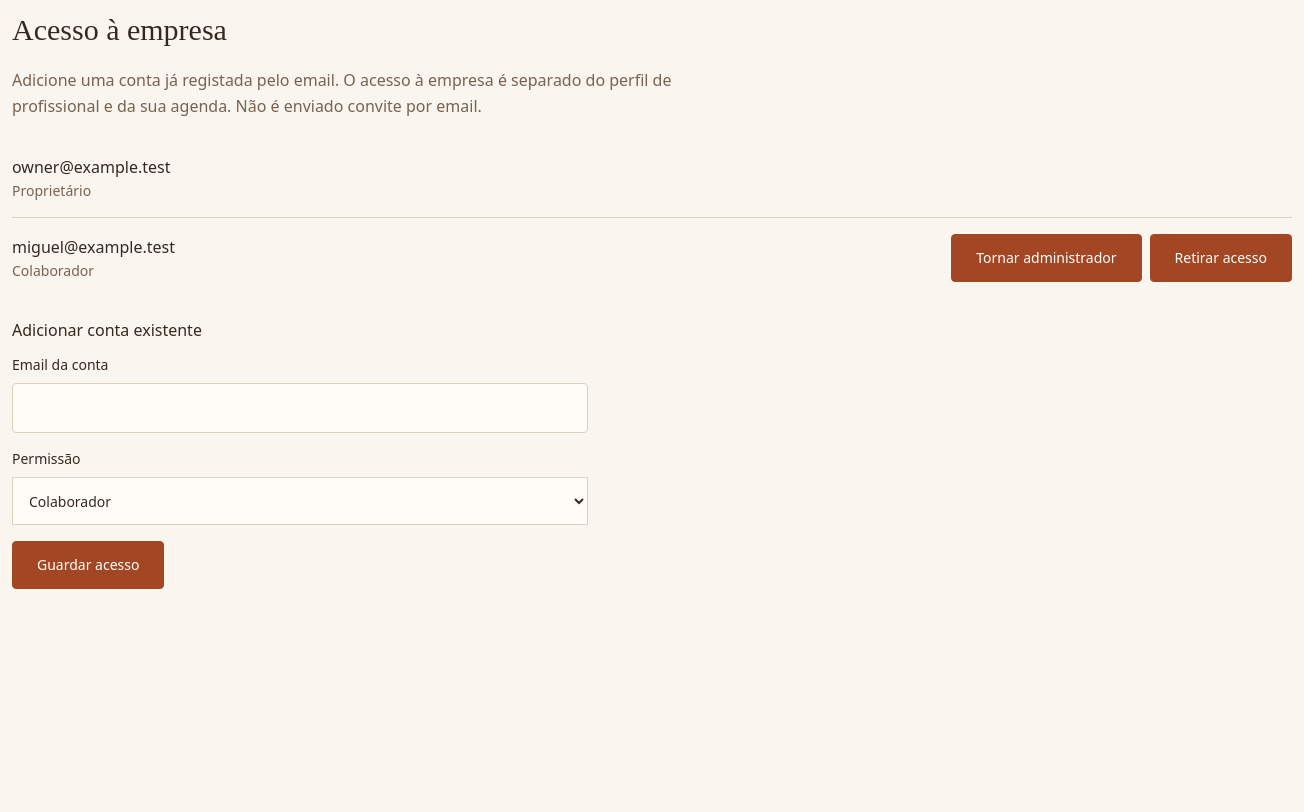
Test: erro não anuncia sucesso e mantém email para nova tentativa
Expected: the text "miguel@example.test" is shown, 12,235 -> 175,261
Type "missing@example.test" into the field labelled "Email da conta" at (300, 408), box 12,383 -> 588,433
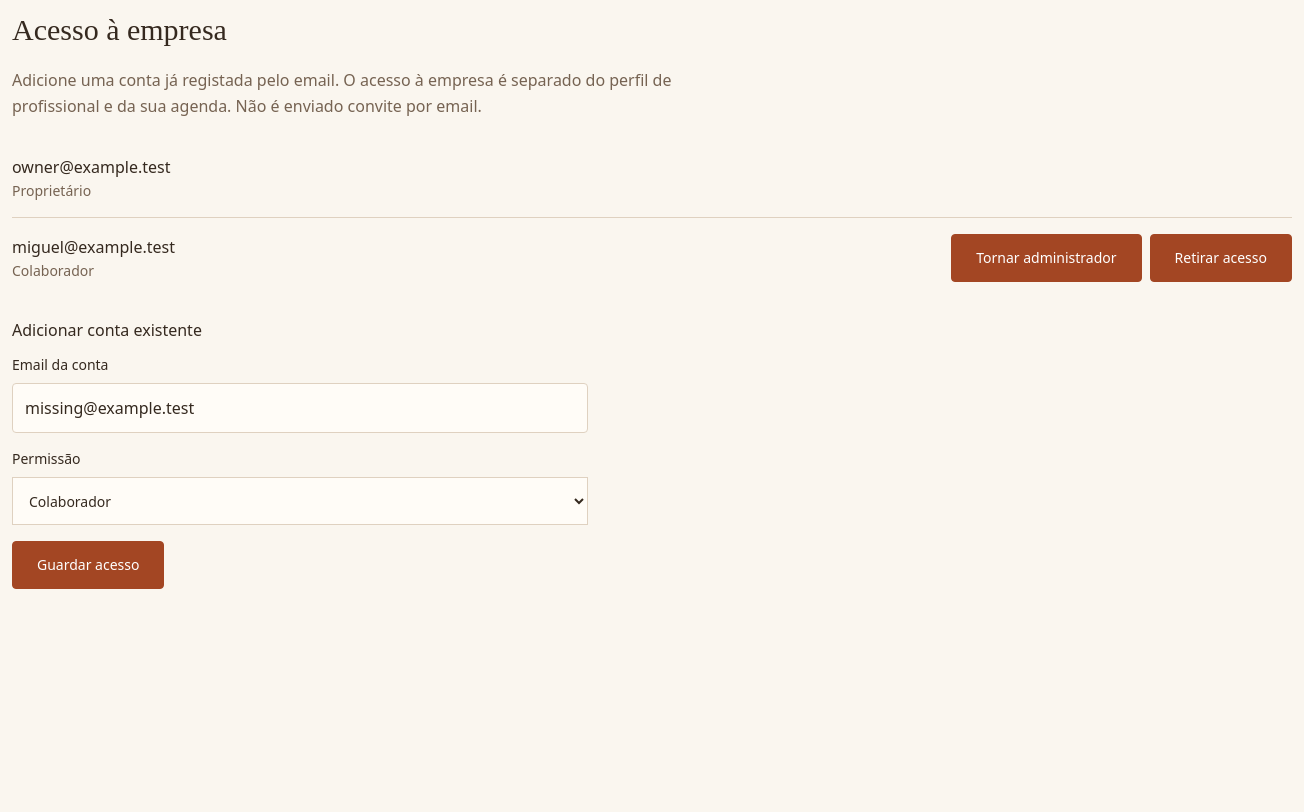
Click the button "Guardar acesso" at (88, 565), box 12,541 -> 164,589
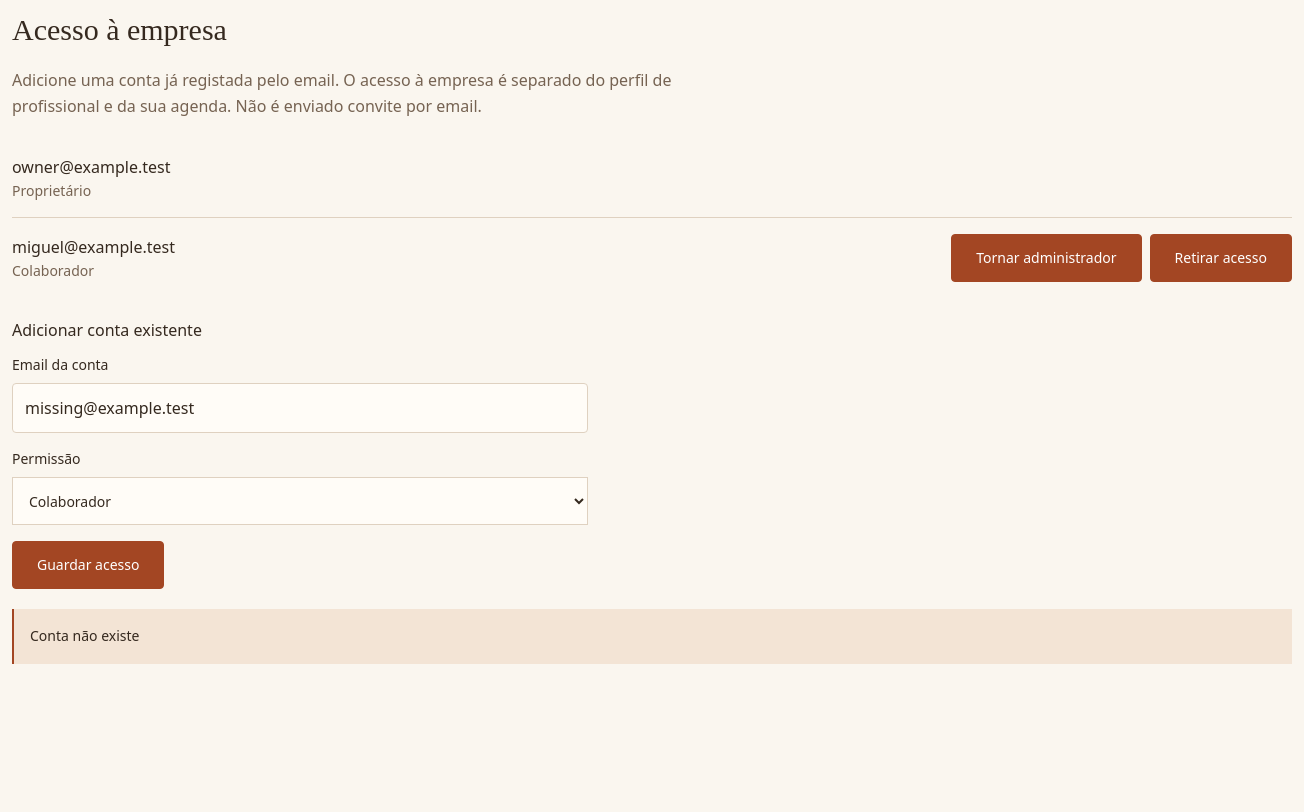
Expected: the text "Conta não existe" is shown, 12,609 -> 1292,664
